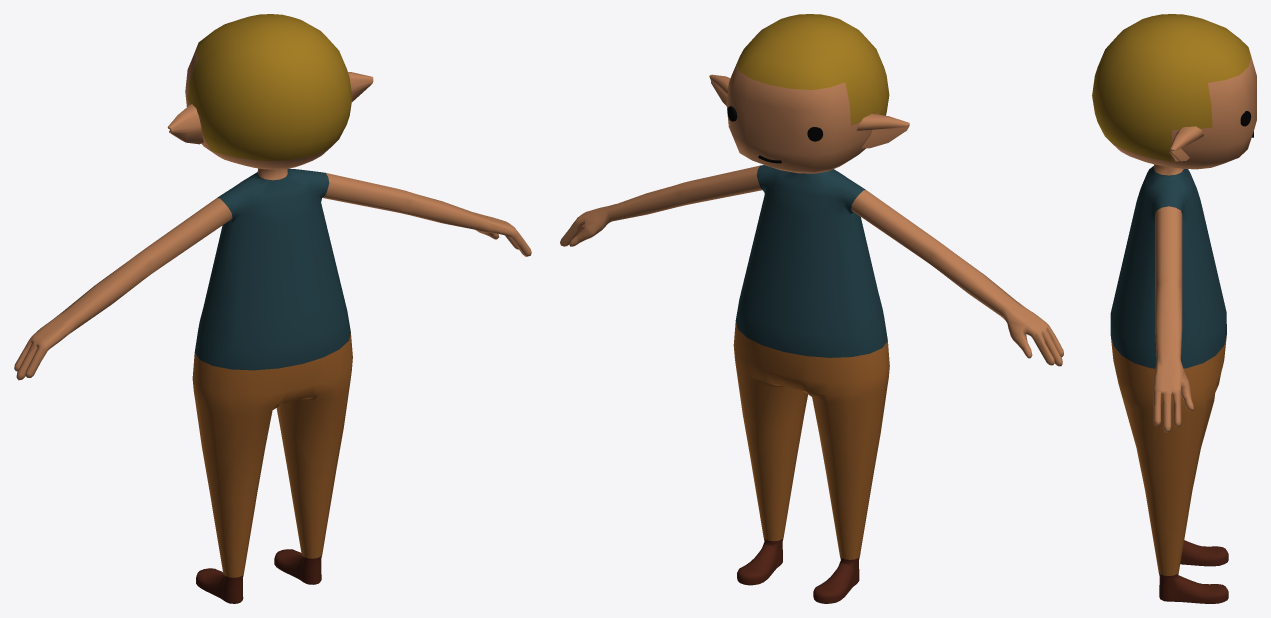
Rendered from MainChar01.fbx.
3 renders of one model, left to right at view 1: azimuth 30°, elevation 25°; view 2: azimuth 150°, elevation 25°; view 3: azimuth 270°, elevation 25°, orthographic. The views are drawn at different scales.
Parts seen in each view (by area): view 1: MainChar01; view 2: MainChar01; view 3: MainChar01.
Part boxes in pixels (x1,y1,x2,y2): MainChar01: (14, 14, 531, 603); MainChar01: (560, 14, 1063, 603); MainChar01: (1092, 14, 1256, 603).
Bounding box in the file's own units: 95.03 × 99.81 × 26.84.
